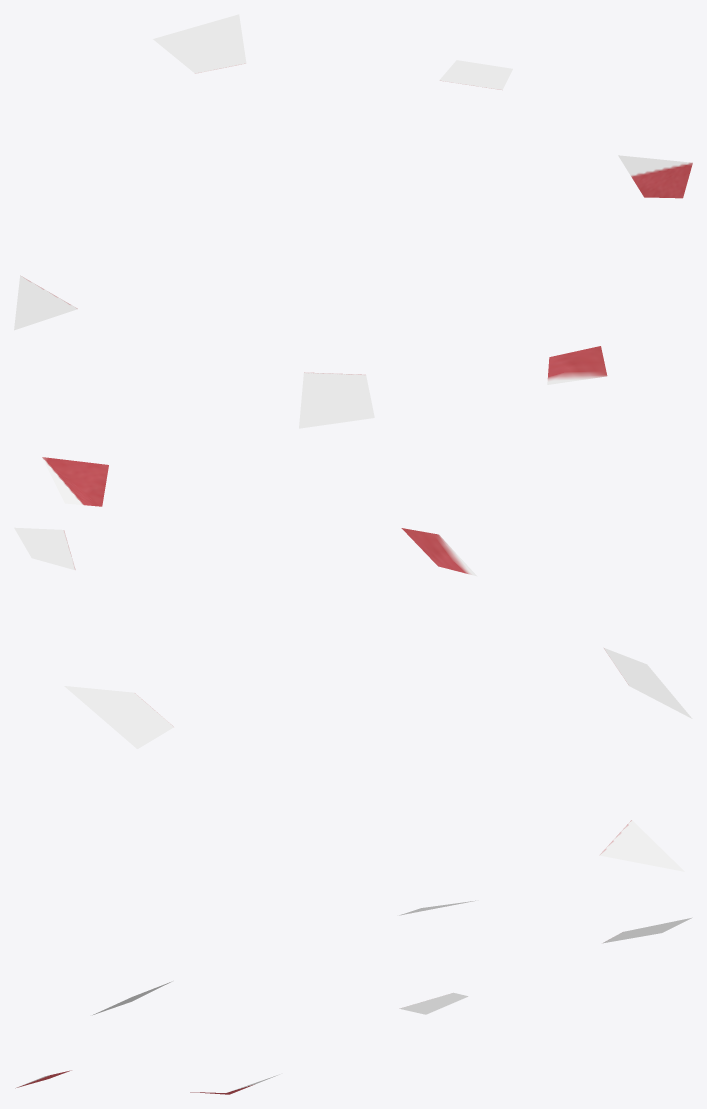
Rendered from SeamAponevrozCheckpoint.FBX.
The picture shows the model from 3 angles, top to bottom: view 1: azimuth 30°, elevation 25°; view 2: azimuth 150°, elevation 25°; view 3: azimuth 270°, elevation 25°; orthographic projection. The views are drawn at different scales.
Parts seen in each view (by area): view 1: Seam aponevroz checkpoint 4, Seam aponevroz checkpoint 1, Seam aponevroz checkpoint 5, Seam aponevroz checkpoint 2, Seam aponevroz checkpoint 6, Seam aponevroz checkpoint 3; view 2: Seam aponevroz checkpoint 1, Seam aponevroz checkpoint 5, Seam aponevroz checkpoint 2, Seam aponevroz checkpoint 4, Seam aponevroz checkpoint 3, Seam aponevroz checkpoint 6; view 3: Seam aponevroz checkpoint 3, Seam aponevroz checkpoint 1.
Boxes of the visible parts, bbox=[...] form: Seam aponevroz checkpoint 4: bbox=[299, 372, 374, 428]; Seam aponevroz checkpoint 1: bbox=[153, 14, 246, 73]; Seam aponevroz checkpoint 5: bbox=[618, 155, 692, 198]; Seam aponevroz checkpoint 2: bbox=[14, 275, 77, 330]; Seam aponevroz checkpoint 6: bbox=[547, 346, 607, 384]; Seam aponevroz checkpoint 3: bbox=[439, 60, 512, 90]; Seam aponevroz checkpoint 1: bbox=[64, 686, 173, 748]; Seam aponevroz checkpoint 5: bbox=[42, 457, 108, 506]; Seam aponevroz checkpoint 2: bbox=[599, 820, 684, 871]; Seam aponevroz checkpoint 4: bbox=[603, 647, 692, 718]; Seam aponevroz checkpoint 3: bbox=[14, 527, 75, 570]; Seam aponevroz checkpoint 6: bbox=[401, 528, 477, 576]; Seam aponevroz checkpoint 3: bbox=[399, 992, 468, 1014]; Seam aponevroz checkpoint 1: bbox=[602, 917, 692, 943].
Bounding box in the file's own units: 33.32 × 9.29 × 33.83.
